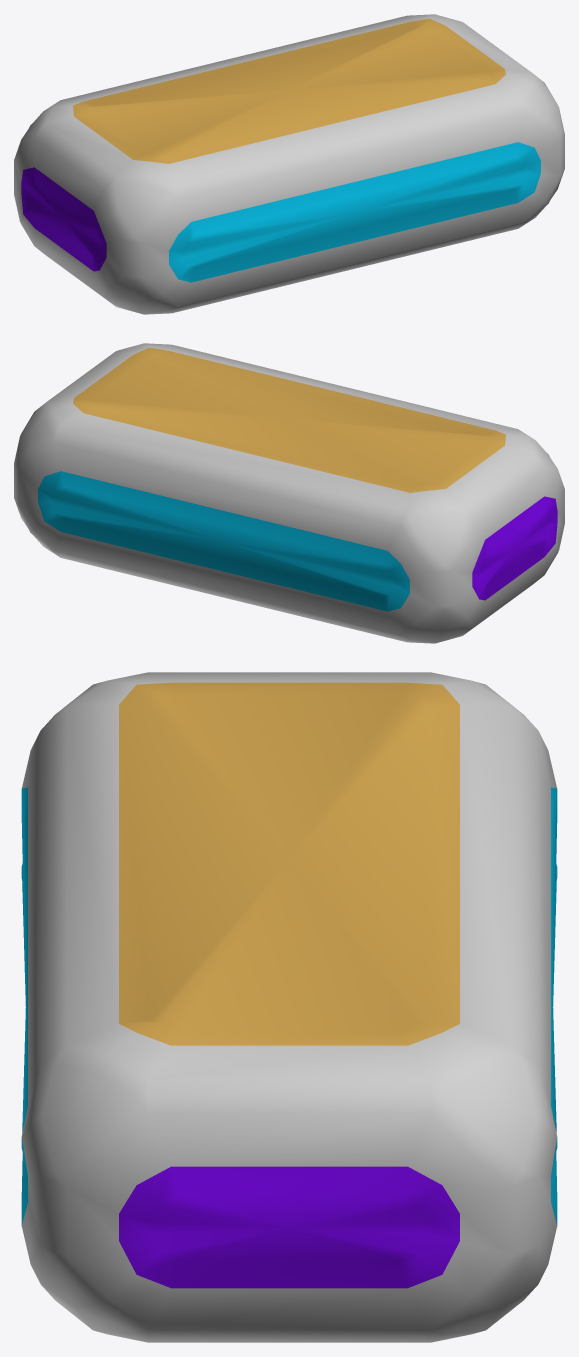
The model's file is D_FBX_15_Stick_B.fbx.
The picture shows the model from 3 angles, top to bottom: view 1: azimuth 30°, elevation 25°; view 2: azimuth 150°, elevation 25°; view 3: azimuth 270°, elevation 25°; orthographic projection. The views are drawn at different scales.
Parts seen in each view (by area): view 1: D_FBX_15_Stick_B; view 2: D_FBX_15_Stick_B; view 3: D_FBX_15_Stick_B.
Boxes of the visible parts, x1,y1,x2,y2 form: D_FBX_15_Stick_B: (14,14,564,314); D_FBX_15_Stick_B: (14,343,564,643); D_FBX_15_Stick_B: (21,672,557,1342).
Size of the model in its own units: 203 by 63.44 by 103.
